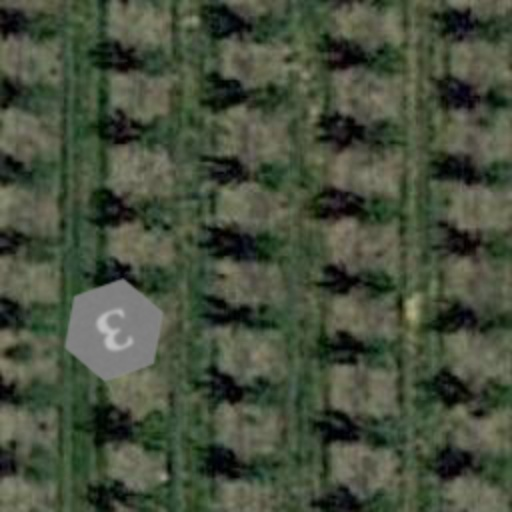hexagon: (46, 262, 182, 398)
